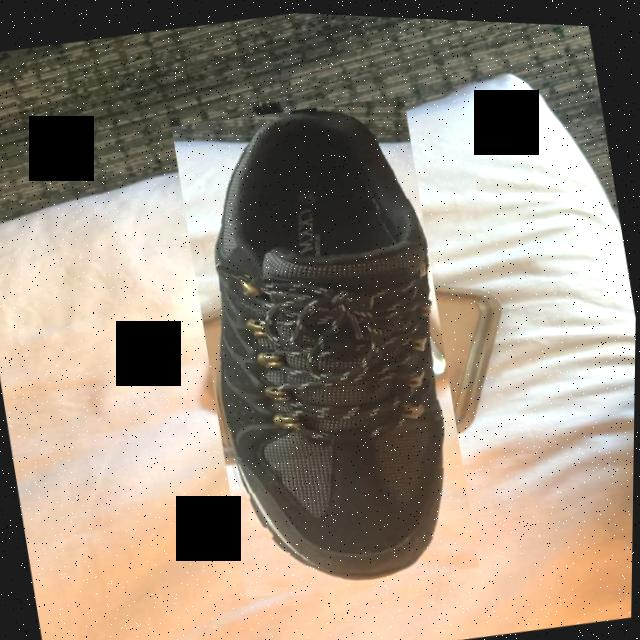shoe: (166, 84, 486, 603)
